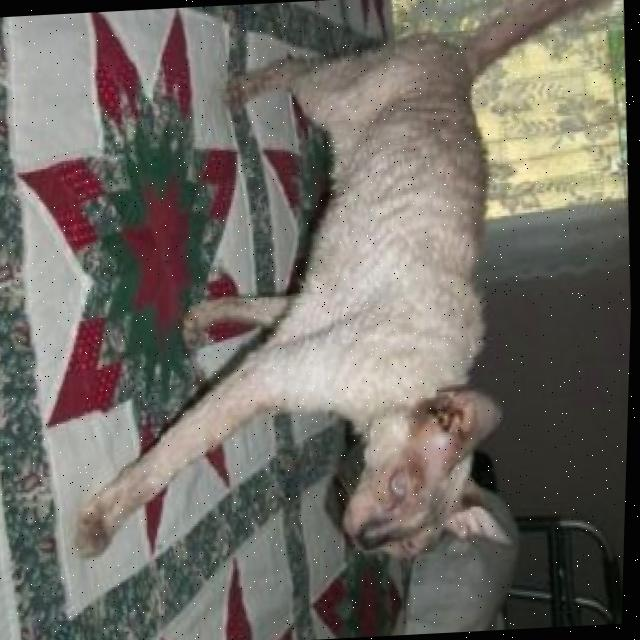Cornish Rex: (44, 0, 640, 581)
